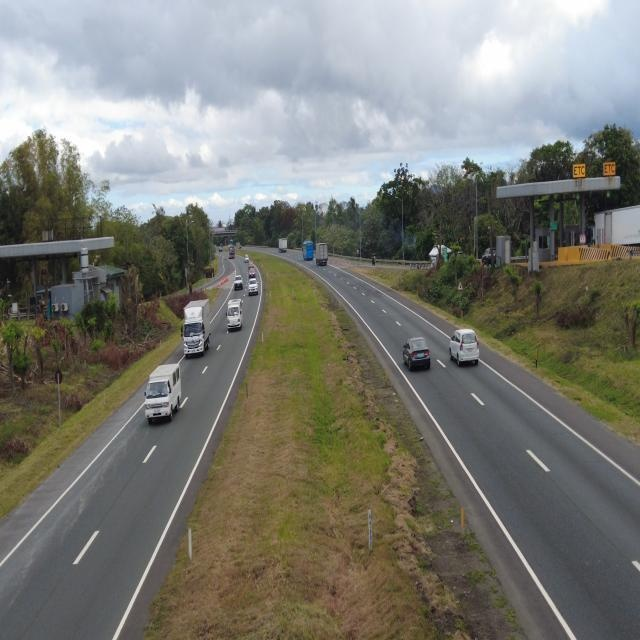Truck: (176, 294, 218, 364), (314, 240, 331, 268)
